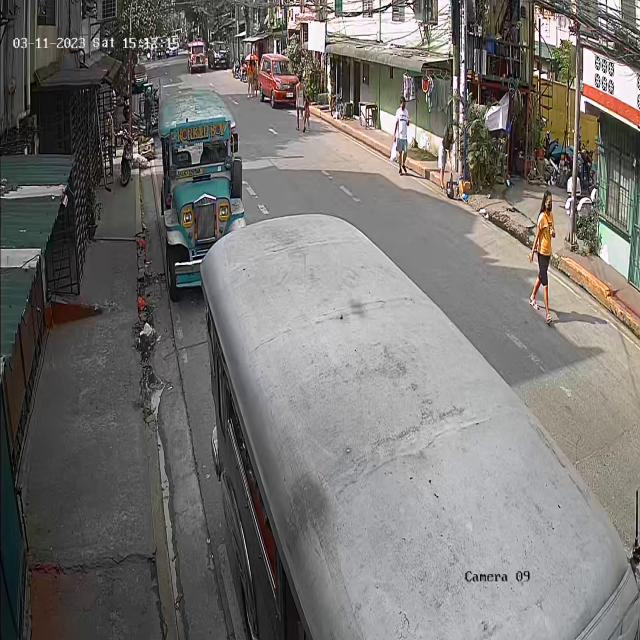garbage_dumping: (389, 137, 399, 163), (446, 170, 454, 196)
